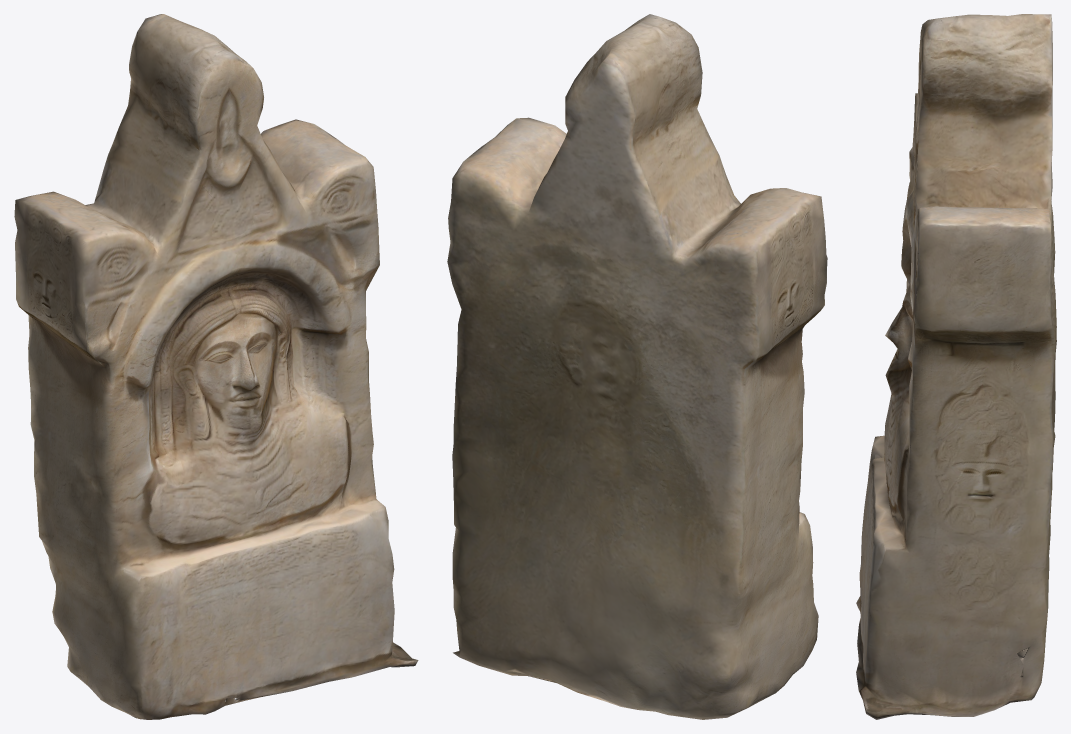
The model's file is smh2.glb.
The picture shows the model from 3 angles, left to right: view 1: azimuth 30°, elevation 25°; view 2: azimuth 150°, elevation 25°; view 3: azimuth 270°, elevation 25°; orthographic projection. The views are drawn at different scales.
Size of the model in its own units: 1.02 by 1.98 by 0.5699.
Materials: 1 (1 with a texture image).
